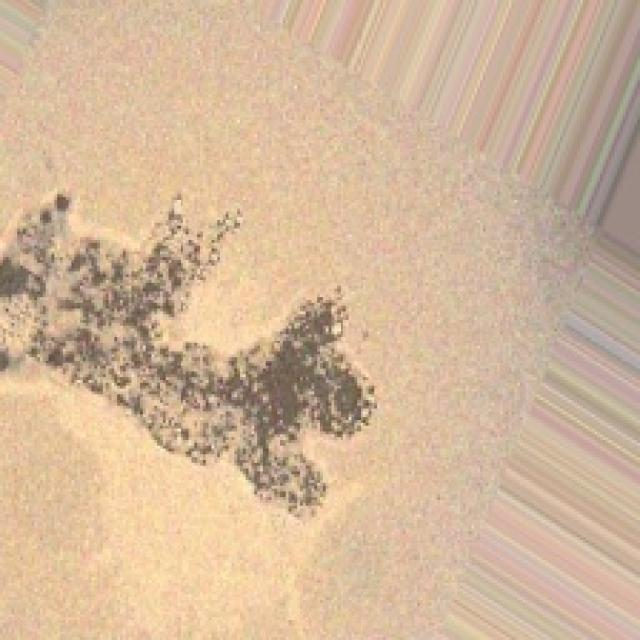Amoeba: (0, 183, 377, 520)
